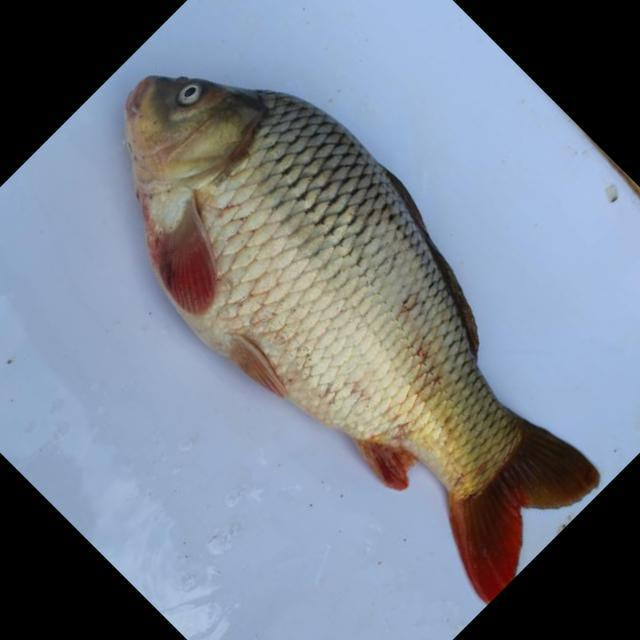CommonCarp: (124, 65, 603, 598)
